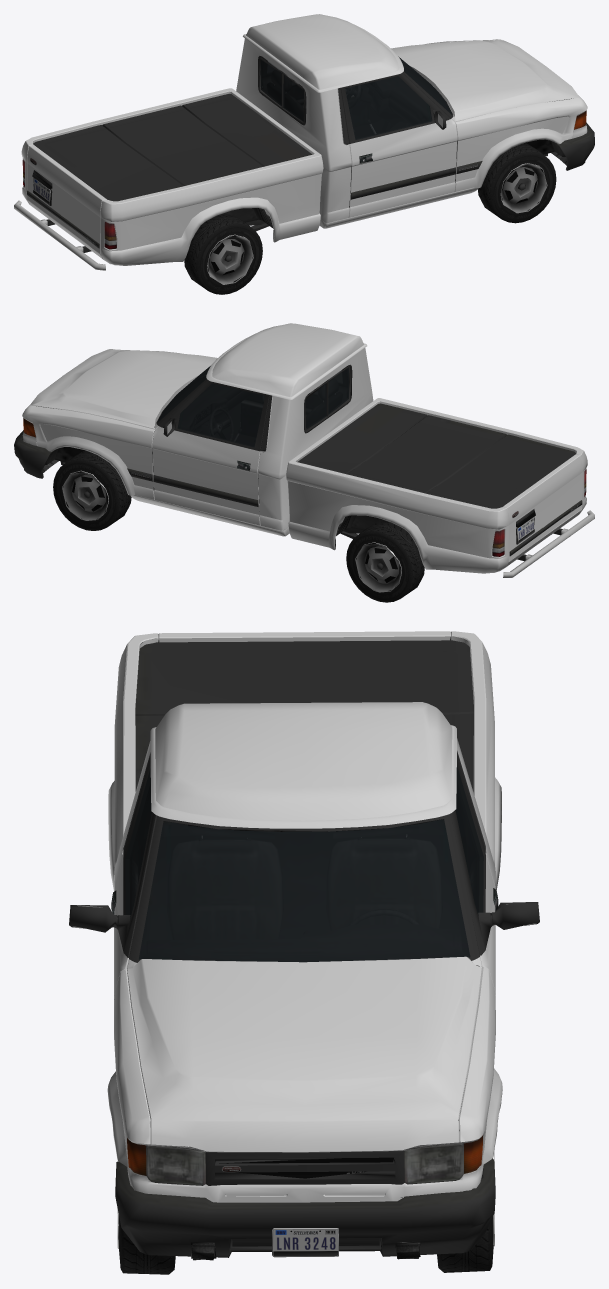
File: car_pickup.glb
3 renders of one model, top to bottom at view 1: azimuth 30°, elevation 25°; view 2: azimuth 150°, elevation 25°; view 3: azimuth 270°, elevation 25°, orthographic. The views are drawn at different scales.
Visible parts, largest first — view 1: CnqerP89_Body_CnqerP89_Bodymat_0, CnqerP89_front_bumper_UCB_BOTTOM_0, CnqerP89_WheelStock_FL_RB1c_Tire_1k_0, CnqerP89_Rear_glass_UCB_Lights_and_Glass_Transperent_0, CnqerP89_Interior_UCB_Interiors_2_0, CnqerP89_Headlights_UCB_Lights_and_Glass_0; view 2: CnqerP89_Body_CnqerP89_Bodymat_0, CnqerP89_front_bumper_UCB_BOTTOM_0, CnqerP89_WheelStock_FL_RB1c_Tire_1k_0, CnqerP89_Rear_glass_UCB_Lights_and_Glass_Transperent_0, CnqerP89_Interior_UCB_Interiors_2_0, CnqerP89_Headlights_UCB_Lights_and_Glass_0; view 3: CnqerP89_Body_CnqerP89_Bodymat_0, CnqerP89_front_bumper_UCB_BOTTOM_0, CnqerP89_Rear_glass_UCB_Lights_and_Glass_Transperent_0, CnqerP89_Interior_UCB_Interiors_2_0, CnqerP89_Headlights_UCB_Lights_and_Glass_0, CnqerP89_WheelStock_FL_RB1c_Tire_1k_0, CnqerP89_NP_Stock_Rear_Numberplates_Misk_U_0.
Boxes of the visible parts, x1=… form: CnqerP89_Body_CnqerP89_Bodymat_0: x1=21, y1=14, x2=587, y2=265; CnqerP89_front_bumper_UCB_BOTTOM_0: x1=14, y1=56, x2=594, y2=270; CnqerP89_WheelStock_FL_RB1c_Tire_1k_0: x1=184, y1=143, x2=556, y2=294; CnqerP89_Rear_glass_UCB_Lights_and_Glass_Transperent_0: x1=22, y1=56, x2=586, y2=249; CnqerP89_Interior_UCB_Interiors_2_0: x1=258, y1=56, x2=451, y2=144; CnqerP89_Headlights_UCB_Lights_and_Glass_0: x1=23, y1=112, x2=585, y2=248; CnqerP89_Body_CnqerP89_Bodymat_0: x1=22, y1=323, x2=587, y2=573; CnqerP89_front_bumper_UCB_BOTTOM_0: x1=14, y1=364, x2=594, y2=577; CnqerP89_WheelStock_FL_RB1c_Tire_1k_0: x1=53, y1=451, x2=424, y2=602; CnqerP89_Rear_glass_UCB_Lights_and_Glass_Transperent_0: x1=23, y1=366, x2=586, y2=556; CnqerP89_Interior_UCB_Interiors_2_0: x1=158, y1=365, x2=352, y2=449; CnqerP89_Headlights_UCB_Lights_and_Glass_0: x1=24, y1=419, x2=585, y2=556; CnqerP89_Body_CnqerP89_Bodymat_0: x1=107, y1=631, x2=502, y2=1202; CnqerP89_front_bumper_UCB_BOTTOM_0: x1=69, y1=638, x2=539, y2=1260; CnqerP89_Rear_glass_UCB_Lights_and_Glass_Transperent_0: x1=125, y1=766, x2=483, y2=1185; CnqerP89_Interior_UCB_Interiors_2_0: x1=130, y1=782, x2=478, y2=961; CnqerP89_Headlights_UCB_Lights_and_Glass_0: x1=127, y1=1136, x2=482, y2=1185; CnqerP89_WheelStock_FL_RB1c_Tire_1k_0: x1=117, y1=1152, x2=494, y2=1274; CnqerP89_NP_Stock_Rear_Numberplates_Misk_U_0: x1=272, y1=1228, x2=338, y2=1257.
Size of the model in its own units: 5.22 by 1.85 by 2.1.
8 materials, 7 textured.
